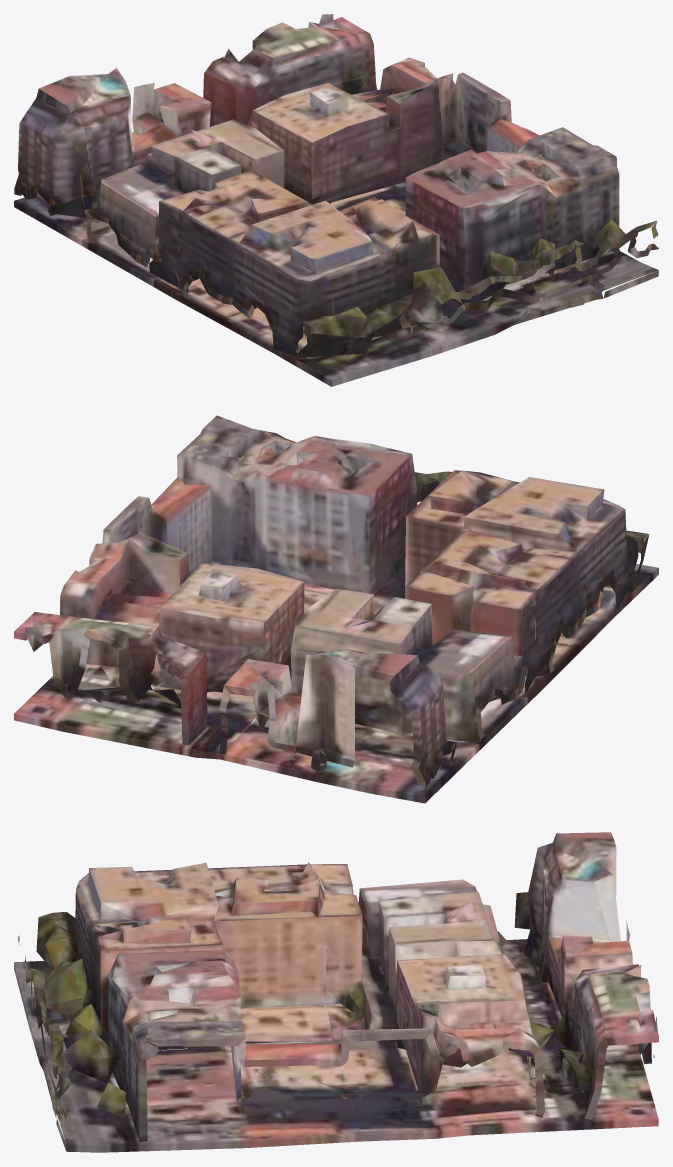
The picture shows the model from 3 angles, top to bottom: view 1: azimuth 30°, elevation 25°; view 2: azimuth 150°, elevation 25°; view 3: azimuth 270°, elevation 25°; orthographic projection. The views are drawn at different scales.
Parts seen in each view (by area): view 1: Mesh_0; view 2: Mesh_0; view 3: Mesh_0.
Part boxes in pixels (x1,y1,x2,y2): Mesh_0: [14, 14, 658, 386]; Mesh_0: [14, 415, 658, 803]; Mesh_0: [14, 832, 658, 1152].
Size of the model in its own units: 133 by 37.76 by 165.
1 material, 1 textured.
